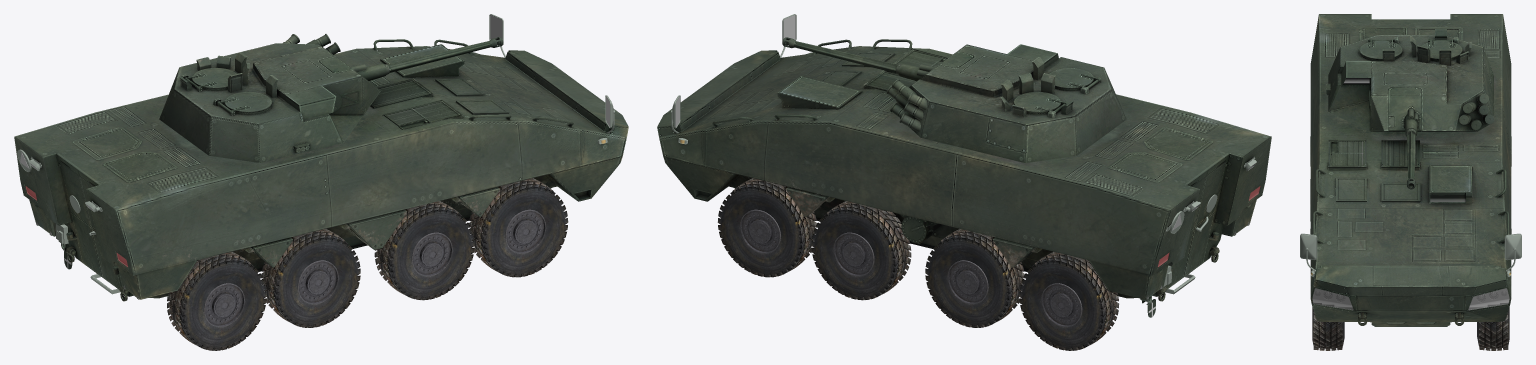
The model's file is JunShi_ZhuangJiaChe001.FBX.
The picture shows the model from 3 angles, left to right: view 1: azimuth 30°, elevation 25°; view 2: azimuth 150°, elevation 25°; view 3: azimuth 270°, elevation 25°; orthographic projection. The views are drawn at different scales.
Parts seen in each view (by area): view 1: AM84_003_08, AM84_003_33, AM84_003_23, AM84_003_30, AM84_003_28, AM84_003_34, AM84_003_26, AM84_003_31, AM84_003_24, AM84_003_01, AM84_003_11; view 2: AM84_003_08, AM84_003_27, AM84_003_32, AM84_003_25, AM84_003_29, AM84_003_34, AM84_003_26, AM84_003_31, AM84_003_24, AM84_003_01, AM84_003_11; view 3: AM84_003_08, AM84_003_01, AM84_003_23, AM84_003_25, AM84_003_21, AM84_003_10, AM84_003_20, AM84_003_15, AM84_003_00.
Boxes of the visible parts, x1=… form: AM84_003_08: x1=14, y1=34, x2=628, y2=301; AM84_003_33: x1=167, y1=251, x2=266, y2=350; AM84_003_23: x1=468, y1=178, x2=568, y2=277; AM84_003_30: x1=260, y1=229, x2=360, y2=327; AM84_003_28: x1=374, y1=201, x2=474, y2=300; AM84_003_34: x1=203, y1=283, x2=244, y2=327; AM84_003_26: x1=411, y1=232, x2=452, y2=276; AM84_003_31: x1=297, y1=260, x2=338, y2=304; AM84_003_24: x1=505, y1=209, x2=545, y2=253; AM84_003_01: x1=17, y1=14, x2=614, y2=294; AM84_003_11: x1=26, y1=15, x2=609, y2=266; AM84_003_08: x1=657, y1=37, x2=1271, y2=317; AM84_003_27: x1=811, y1=201, x2=911, y2=300; AM84_003_32: x1=1019, y1=251, x2=1119, y2=350; AM84_003_25: x1=717, y1=178, x2=817, y2=277; AM84_003_29: x1=925, y1=229, x2=1025, y2=327; AM84_003_34: x1=1041, y1=283, x2=1082, y2=327; AM84_003_26: x1=833, y1=232, x2=874, y2=276; AM84_003_31: x1=947, y1=260, x2=988, y2=304; AM84_003_24: x1=740, y1=209, x2=780, y2=253; AM84_003_01: x1=670, y1=14, x2=1256, y2=294; AM84_003_11: x1=675, y1=15, x2=1259, y2=266; AM84_003_08: x1=1310, y1=14, x2=1511, y2=326; AM84_003_01: x1=1300, y1=233, x2=1521, y2=277; AM84_003_23: x1=1312, y1=307, x2=1344, y2=350; AM84_003_25: x1=1477, y1=307, x2=1509, y2=350; AM84_003_21: x1=1312, y1=288, x2=1353, y2=310; AM84_003_10: x1=1468, y1=288, x2=1509, y2=310; AM84_003_20: x1=1313, y1=288, x2=1351, y2=306; AM84_003_15: x1=1470, y1=288, x2=1508, y2=306; AM84_003_00: x1=1430, y1=195, x2=1465, y2=201.
Bounding box in the file's own units: 690 × 277 × 275.
